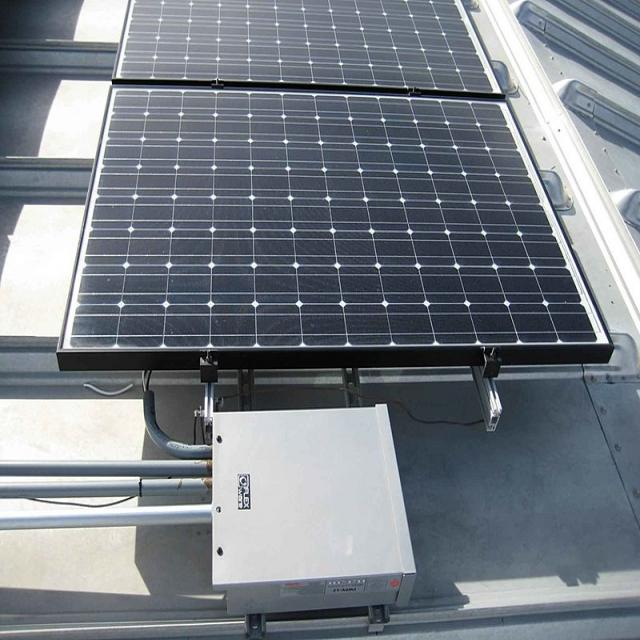no faulty: (75, 8, 567, 384)
